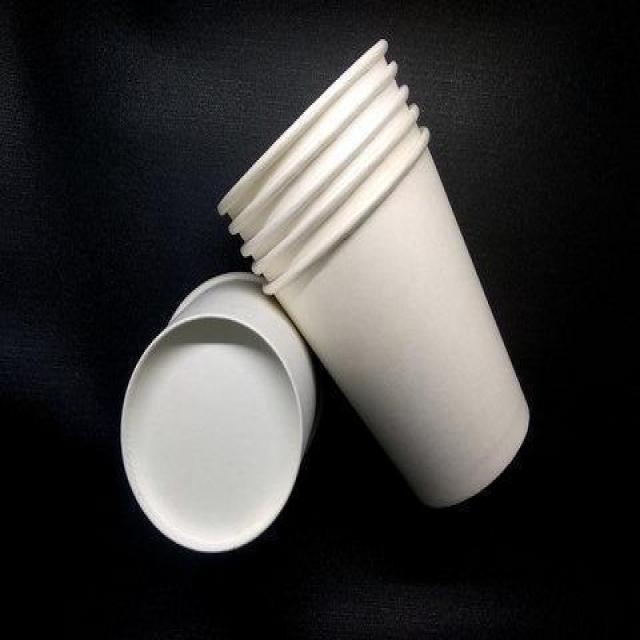cup-disposable: (215, 34, 533, 512)
